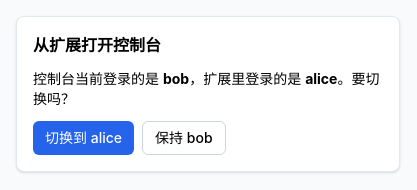
Test case: handoff 不重放旧凭据 › 停在「要切换吗」期间控制台换了 token：点切换也保留当前登录
This screenshot has width=417, height=190.
What coordinates should you click on to do the following:
click the button "切换到 alice"
I would click on:
 (84, 138)
Its box is [33, 121, 134, 155].
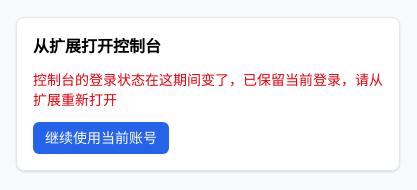
Result: the message shows "已保留当前登录" at [33, 71, 383, 108]
